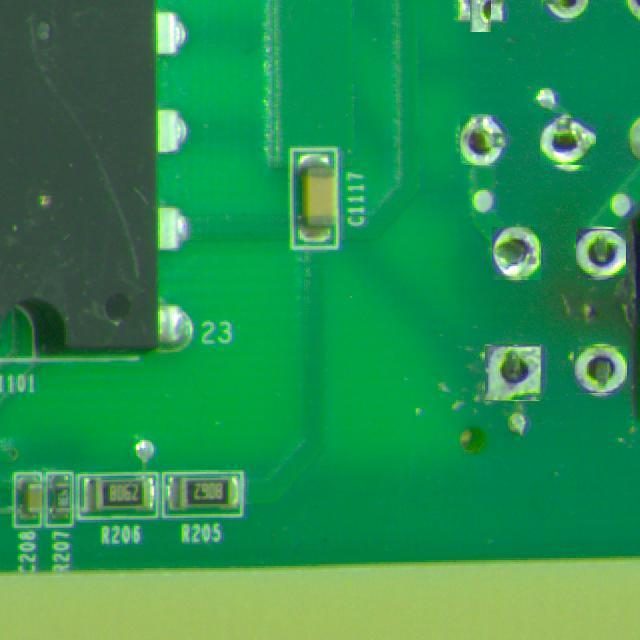oppostie_direction: (485, 346, 541, 399), (539, 119, 596, 164), (492, 228, 541, 278), (575, 346, 626, 393), (576, 230, 626, 275), (461, 117, 507, 165), (544, 0, 588, 20), (470, 0, 491, 32)
